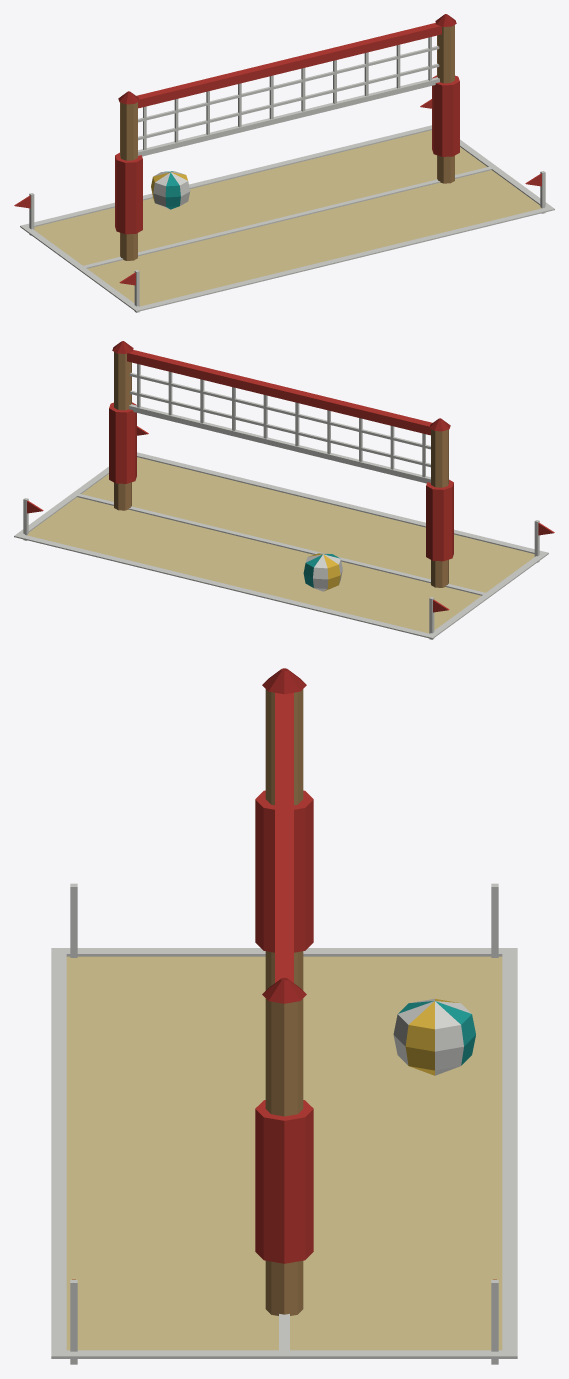
File: Decor_BeachBar_Volleyball.fbx
The picture shows the model from 3 angles, top to bottom: view 1: azimuth 30°, elevation 25°; view 2: azimuth 150°, elevation 25°; view 3: azimuth 270°, elevation 25°; orthographic projection. The views are drawn at different scales.
Visible parts, largest first — view 1: Volleyball_Body; view 2: Volleyball_Body; view 3: Volleyball_Body.
Part boxes in pixels (left/top/right/bottom): Volleyball_Body: left=14, top=14, right=554, bottom=312; Volleyball_Body: left=14, top=341, right=554, bottom=639; Volleyball_Body: left=51, top=668, right=517, bottom=1364.
Size of the model in its own units: 26.4 by 10 by 12.4.
